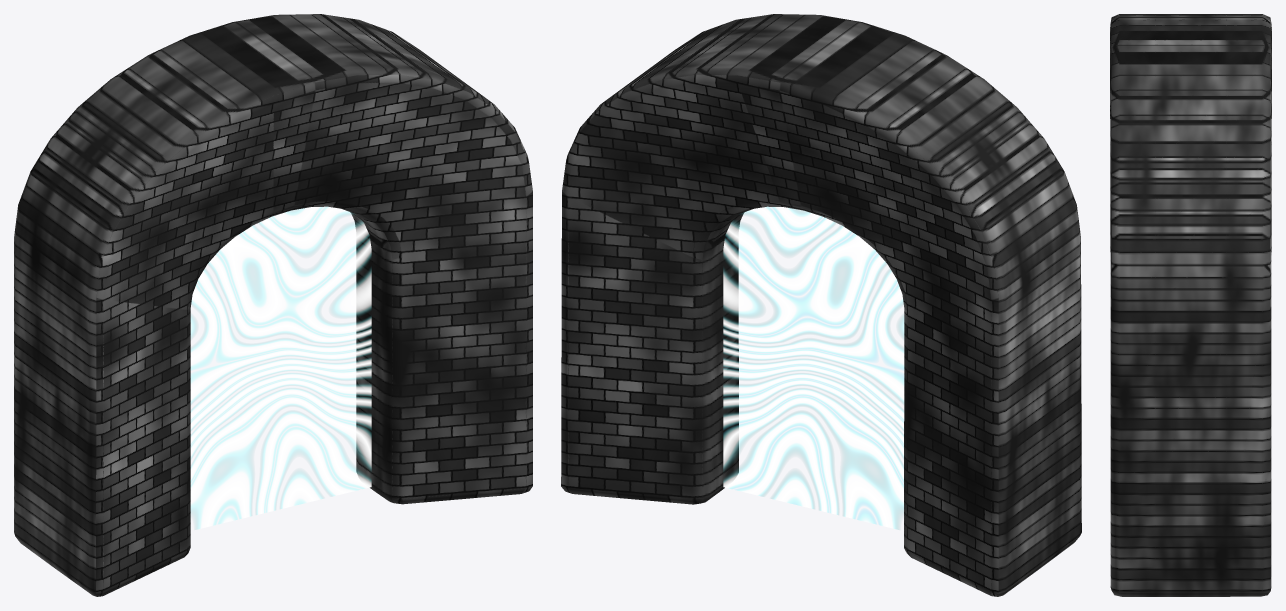
The model's file is Portal.glb.
3 renders of one model, left to right at view 1: azimuth 30°, elevation 25°; view 2: azimuth 150°, elevation 25°; view 3: azimuth 270°, elevation 25°, orthographic. The views are drawn at different scales.
Parts seen in each view (by area): view 1: Cylinder.002, Cylinder.003; view 2: Cylinder.002, Cylinder.003; view 3: Cylinder.002.
Part boxes in pixels (box(x1,y1,x2,y2)): Cylinder.002: box(14, 14, 532, 596); Cylinder.003: box(190, 207, 371, 528); Cylinder.002: box(561, 14, 1081, 596); Cylinder.003: box(723, 207, 904, 529); Cylinder.002: box(1110, 14, 1271, 596).
Bounding box in the file's own units: 5.19 × 5.28 × 1.71.
Materials: 2 (2 with a texture image).
